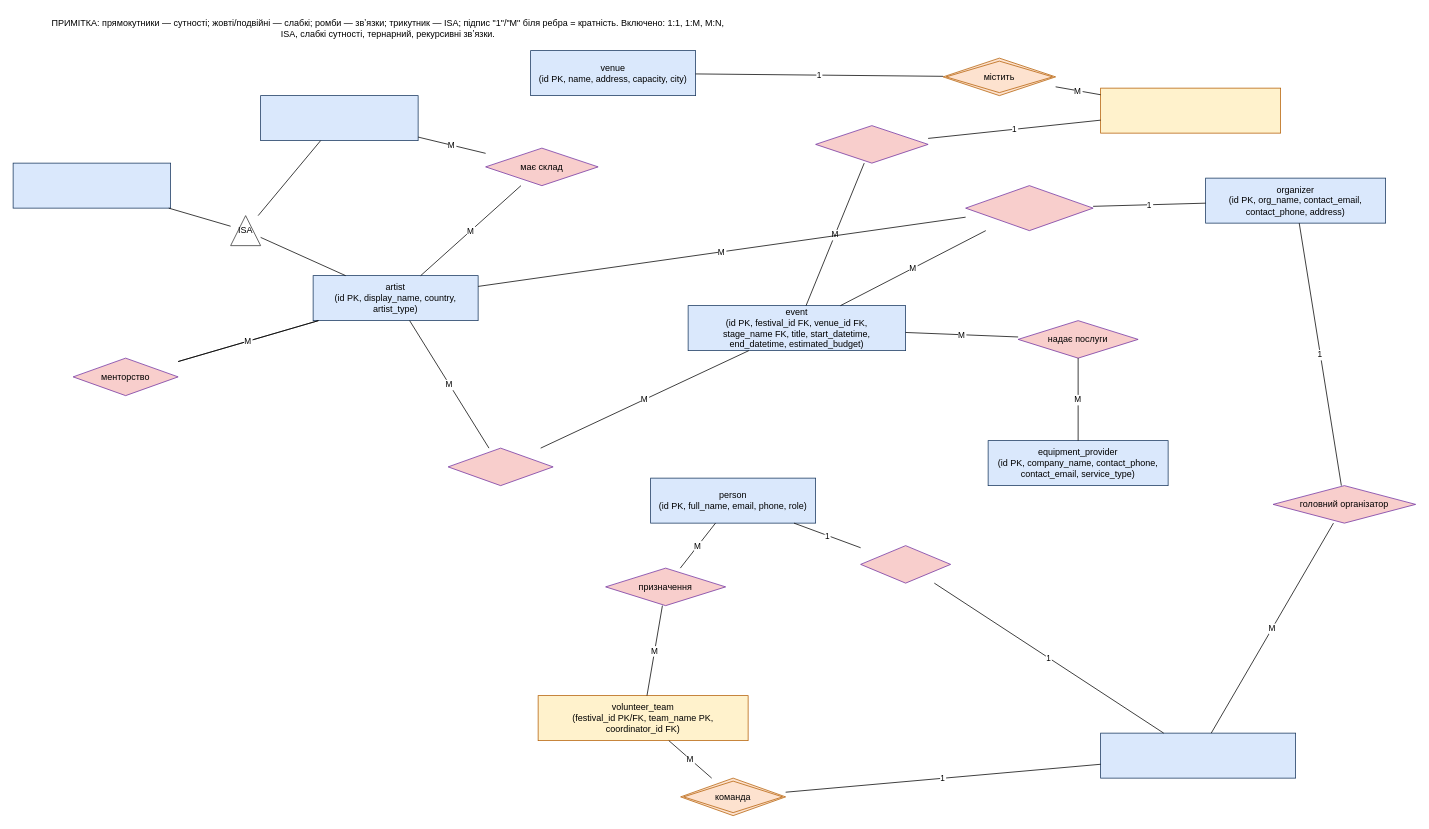
This 1429x829 diagram has some shape labels left out. The centre of each missing label's shape, as x and y in pixels:
band (artist_id PK/FK, formed_year, genre): point 339,118
festival (id PK, name (U), start_date, end_date, city, main_organizer_id FK): point 1198,755
solo_artist (artist_id PK/FK, real_name, birth_date): point 91,185
stage (venue_id PK/FK, stage_name PK, capacity, stage_type): point 1190,110
виступає: point 500,466
директор: point 905,564
проводиться: point 871,144
укладає контракт: point 1029,208
